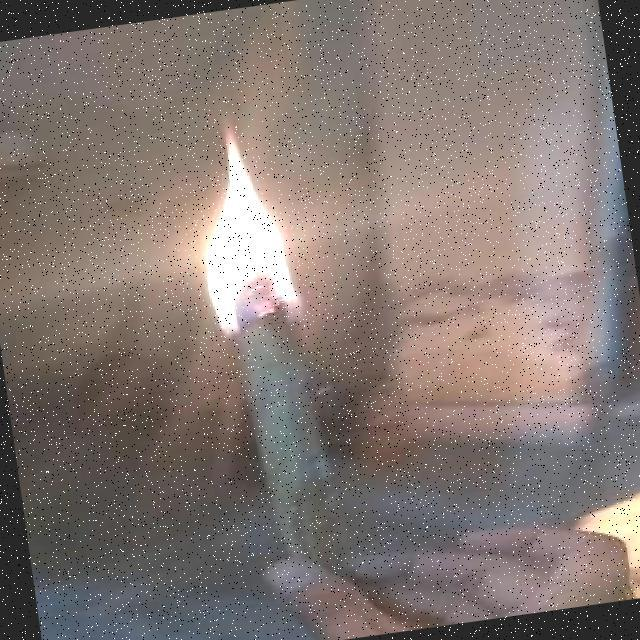Fire: (148, 92, 344, 352)
